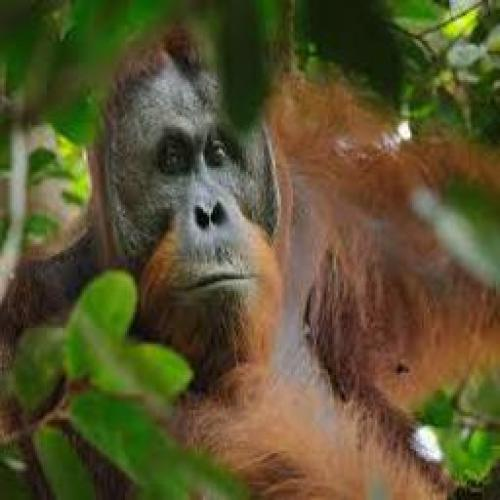orangutan-endangered: (27, 30, 488, 484)
